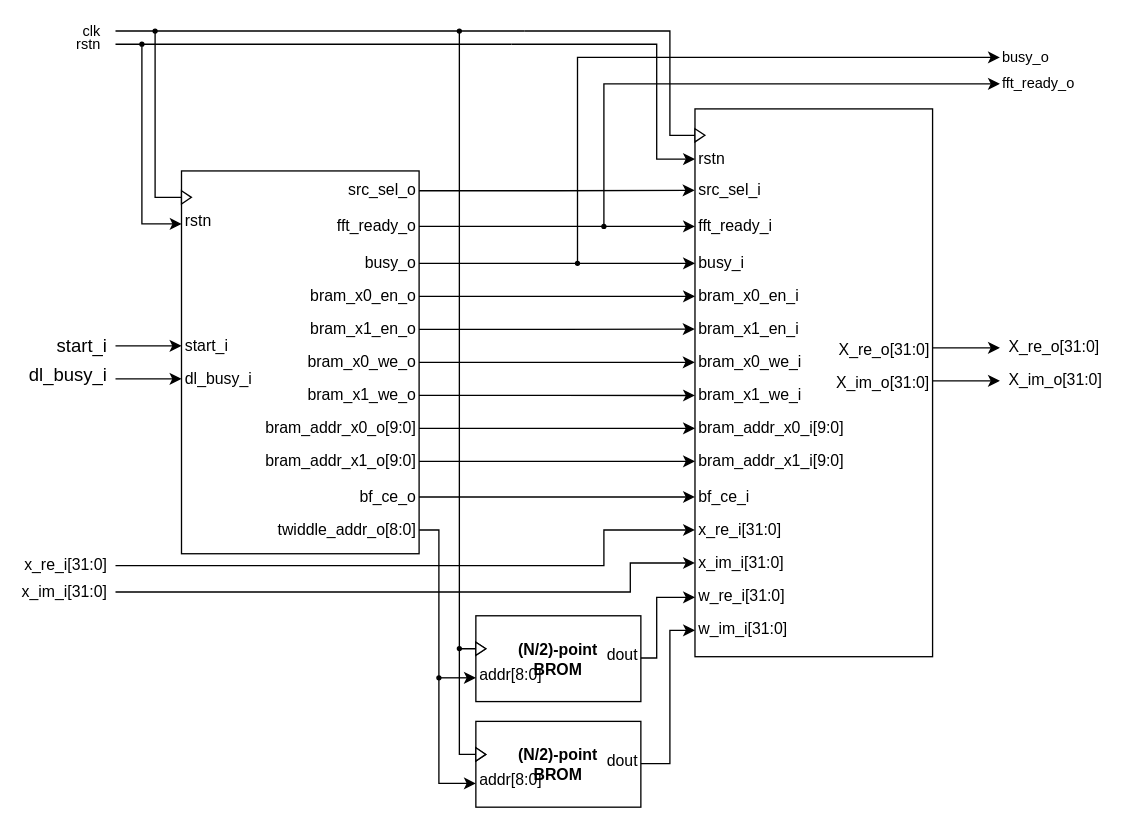
Some shapes in this 1123 by 830 pixel diagram are drawn without their labels. The shapes that lost their labels are listed below. From the top down, each one's box as (x1, y1, x2, y2) in pixels, then its label:
(180, 170, 419, 554): FFT Control Unit
(694, 108, 933, 657): FFT Data Path
